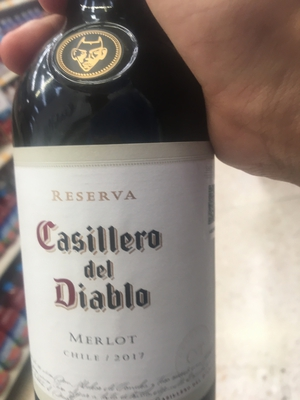casillero del diablo merlot: (11, 37, 221, 400)
